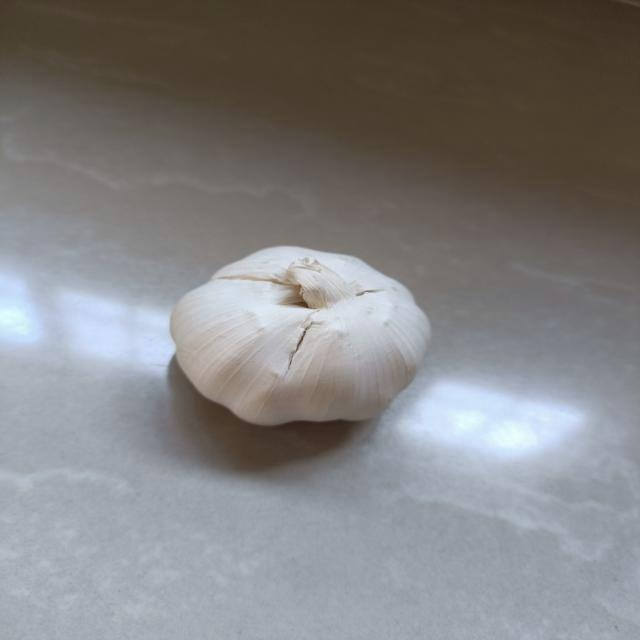garlic: (162, 241, 440, 432)
